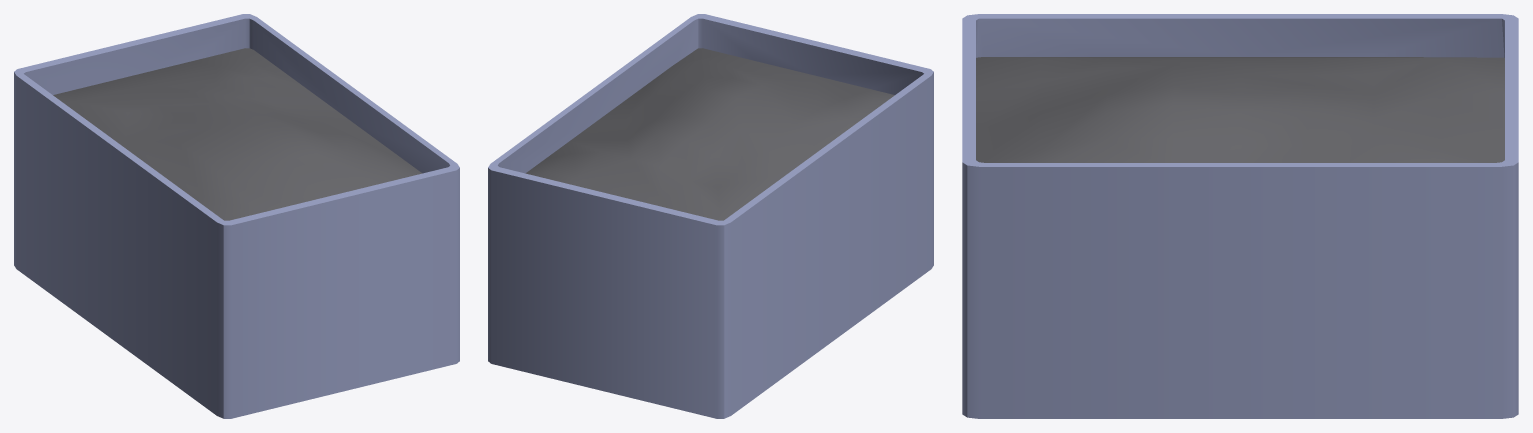
The model's file is cove-fish-crate.lod1.glb.
3 renders of one model, left to right at view 1: azimuth 30°, elevation 25°; view 2: azimuth 150°, elevation 25°; view 3: azimuth 270°, elevation 25°, orthographic. The views are drawn at different scales.
Parts seen in each view (by area): view 1: M_FishCrate_Mat_PileoFish_0; view 2: M_FishCrate_Mat_PileoFish_0; view 3: M_FishCrate_Mat_PileoFish_0.
Part boxes in pixels (x1,y1,x2,y2): M_FishCrate_Mat_PileoFish_0: (14, 14, 459, 418); M_FishCrate_Mat_PileoFish_0: (488, 14, 933, 418); M_FishCrate_Mat_PileoFish_0: (962, 14, 1518, 418).
Size of the model in its own units: 0.52 by 0.4062 by 0.8.
